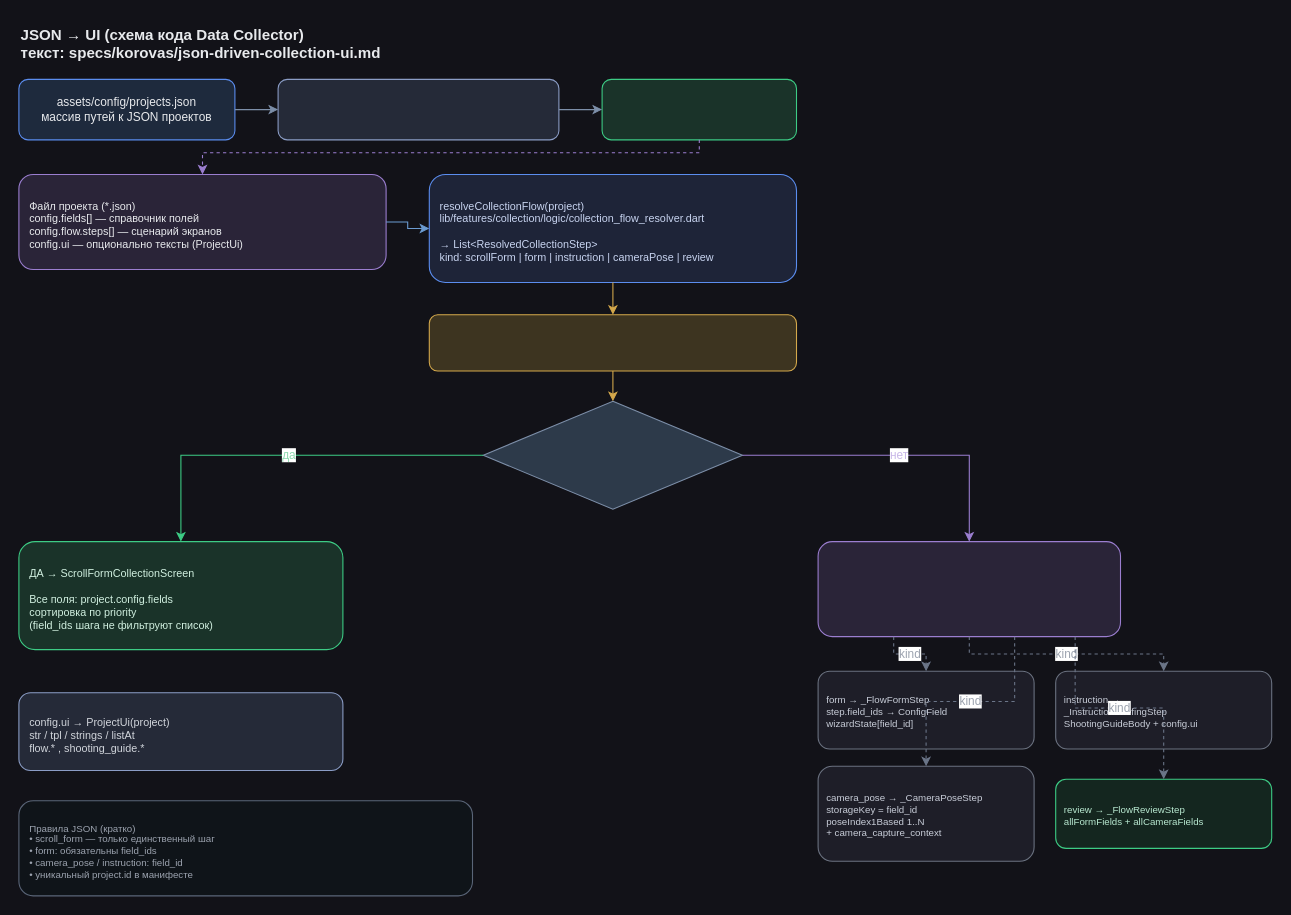
This 1291x915 diagram has some shape labels left out. The centre of each missing label's shape, as x and y in pixels:
"CollectionFlowScreen(projectId) lib/.../collection_flow_screen.dart" goes at pixel 612 342.
"isSingleScrollOnly ? (1 шаг && screen == scroll_form)" goes at pixel 612 454.
"List<Project> уникальный project.id" goes at pixel 698 109.
"ProjectCatalog.loadAll() lib/features/projects/project_catalog.dart" goes at pixel 418 109.
"НЕТ → _FlowStepShell _step → resolvedFlow.steps[i] _buildStep: switch(kind)" goes at pixel 968 589.
